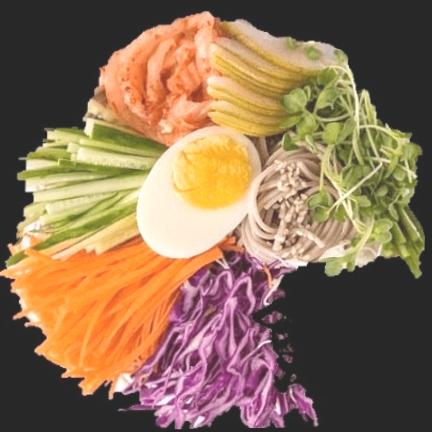carrot: (10, 234, 224, 390)
cucumber: (5, 116, 171, 267)
egg: (137, 125, 260, 258)
fish: (101, 14, 210, 142)
green_vegetables: (272, 63, 425, 276)
salad: (126, 250, 317, 429)
